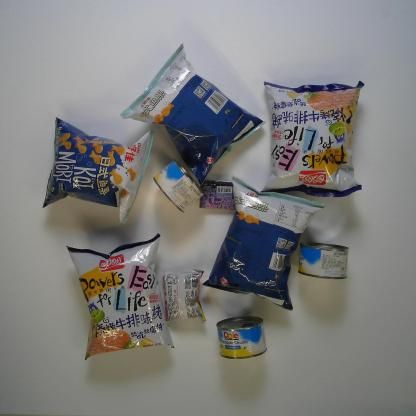Canned Food: (152, 158, 205, 214), (216, 315, 268, 359), (298, 241, 349, 280)
Dessert: (161, 268, 207, 324)
Gum: (198, 180, 244, 210)
Puffed Food: (120, 44, 266, 186), (200, 175, 325, 312), (66, 232, 175, 362), (259, 80, 365, 199), (41, 117, 155, 225)
